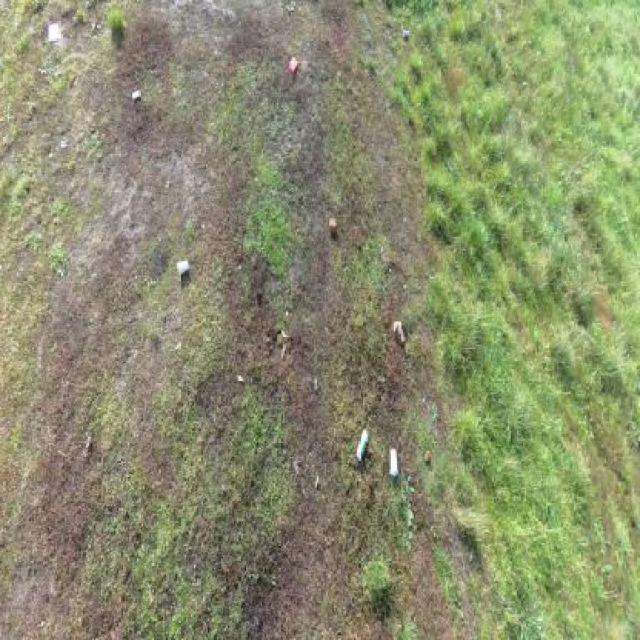Garbage: (355, 427, 369, 463), (393, 319, 405, 344), (176, 257, 189, 277), (389, 448, 399, 474), (48, 23, 60, 40), (289, 55, 299, 74), (329, 217, 337, 235), (132, 88, 140, 99), (403, 30, 409, 36), (422, 398, 425, 403)
